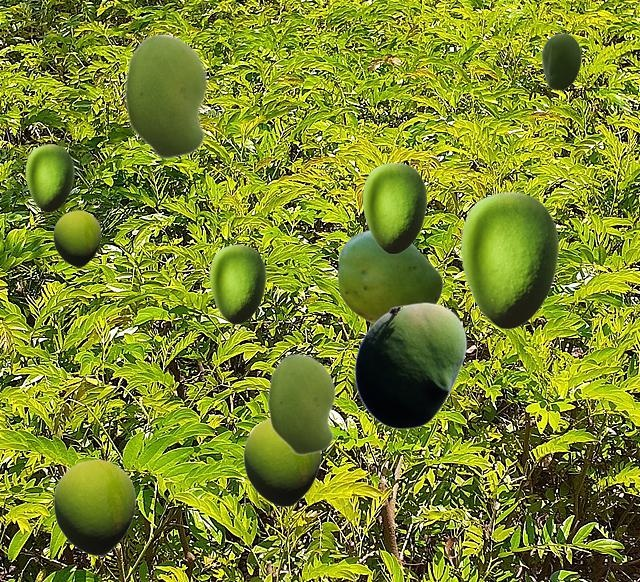green_mango: (354, 302, 466, 428), (460, 191, 558, 328), (124, 33, 207, 159), (337, 230, 442, 323), (53, 459, 135, 555), (267, 353, 335, 455), (243, 418, 320, 506), (362, 162, 426, 253), (209, 244, 265, 323), (25, 144, 73, 211), (53, 210, 100, 266), (541, 30, 580, 92)
